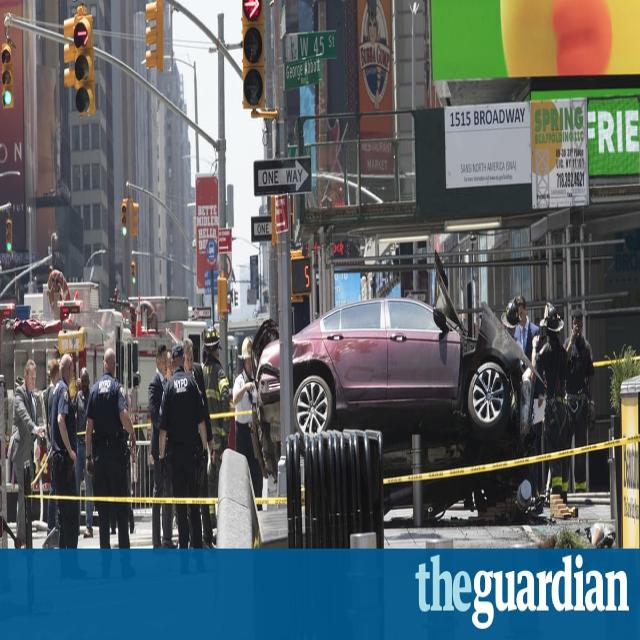body: (83, 344, 139, 583), (156, 338, 209, 579), (530, 306, 570, 508), (181, 336, 216, 550), (146, 342, 180, 558), (6, 356, 44, 548), (533, 301, 568, 508), (201, 323, 233, 547), (561, 308, 595, 504), (230, 333, 264, 513), (514, 294, 544, 496), (50, 350, 80, 550), (70, 367, 94, 540), (42, 358, 60, 536), (500, 295, 526, 376), (166, 348, 174, 378), (72, 373, 81, 397)
